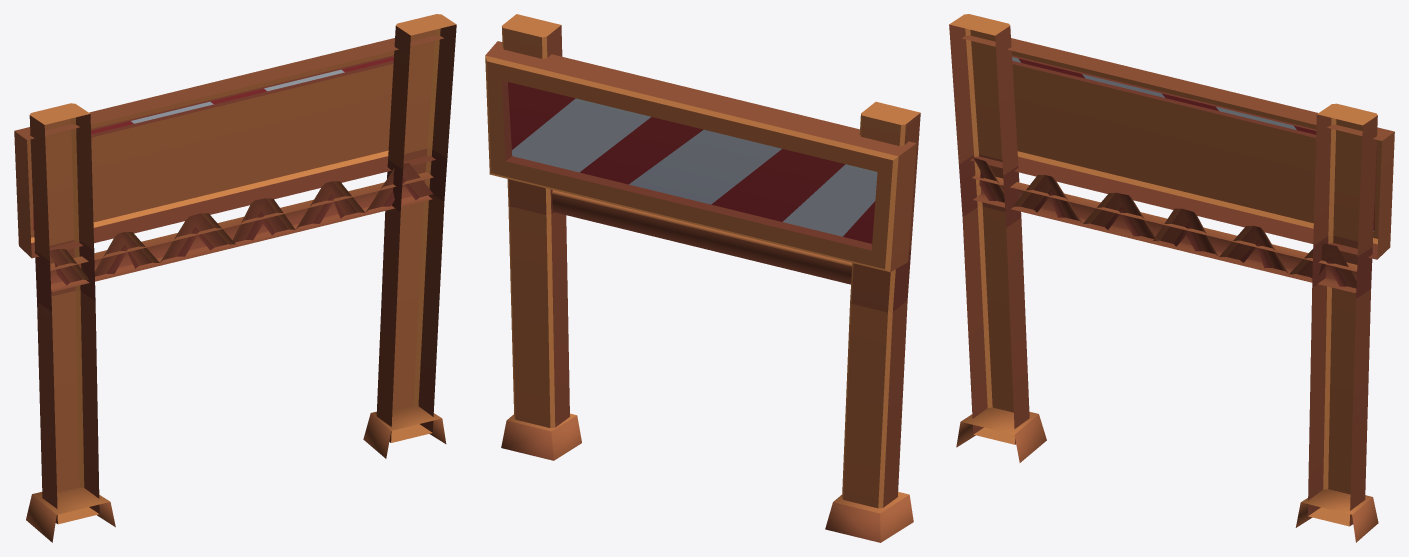
File: barrier_2.fbx
3 renders of one model, left to right at view 1: azimuth 30°, elevation 25°; view 2: azimuth 150°, elevation 25°; view 3: azimuth 330°, elevation 25°, orthographic. The views are drawn at different scales.
Parts seen in each view (by area): view 1: bar_2; view 2: bar_2; view 3: bar_2.
Part boxes in pixels (box(x1,y1,x2,y2)): bar_2: box(14, 14, 456, 542); bar_2: box(485, 14, 920, 542); bar_2: box(949, 14, 1394, 542).
Bounding box in the file's own units: 86.94 × 81.6 × 10.81.
